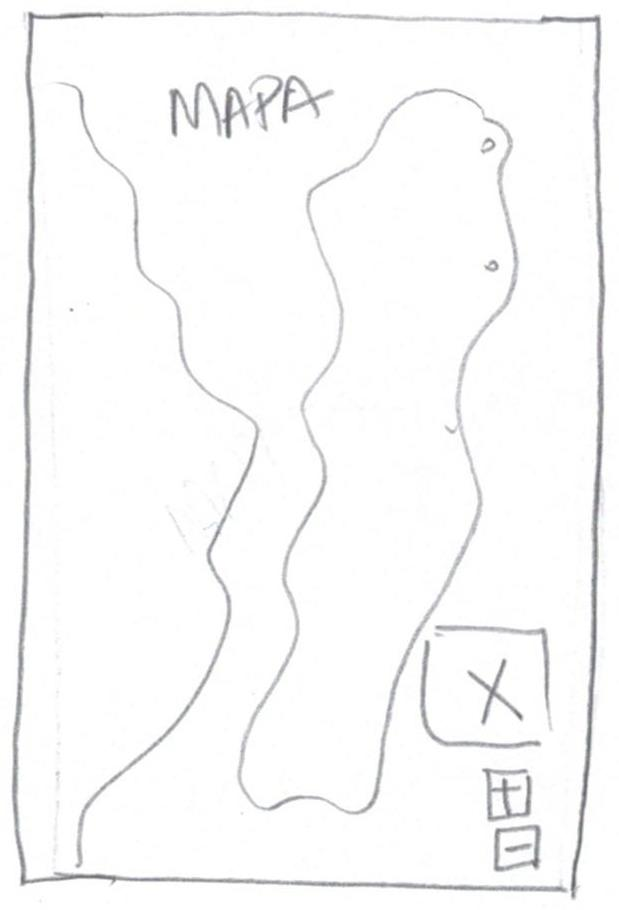Map: (32, 16, 591, 895)
Screen: (29, 14, 602, 900)
